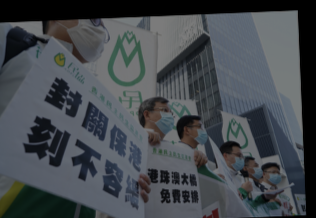with_mask: (66, 19, 106, 64), (151, 103, 175, 135), (190, 122, 209, 146), (228, 150, 246, 172), (266, 167, 283, 185), (248, 161, 263, 180)
